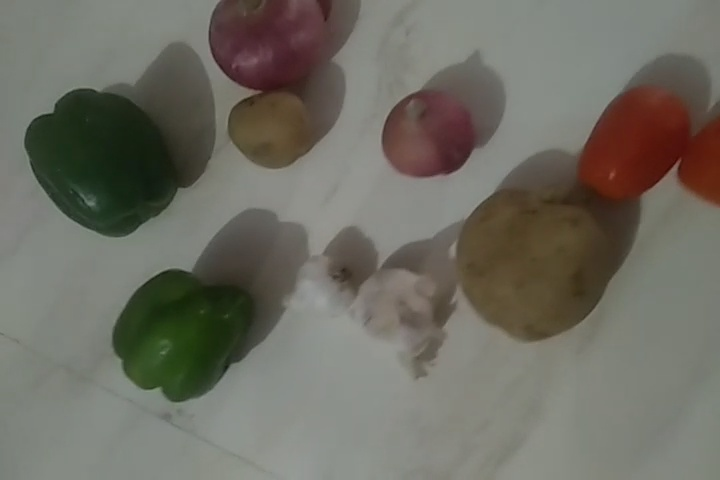capsicum: (32, 80, 174, 243), (112, 262, 243, 400)
garlic: (351, 271, 437, 352), (289, 252, 356, 318)
onion: (207, 1, 325, 87), (386, 90, 466, 179)
potato: (462, 182, 601, 338), (229, 92, 312, 174)
tomato: (587, 84, 683, 203), (685, 114, 720, 200)
